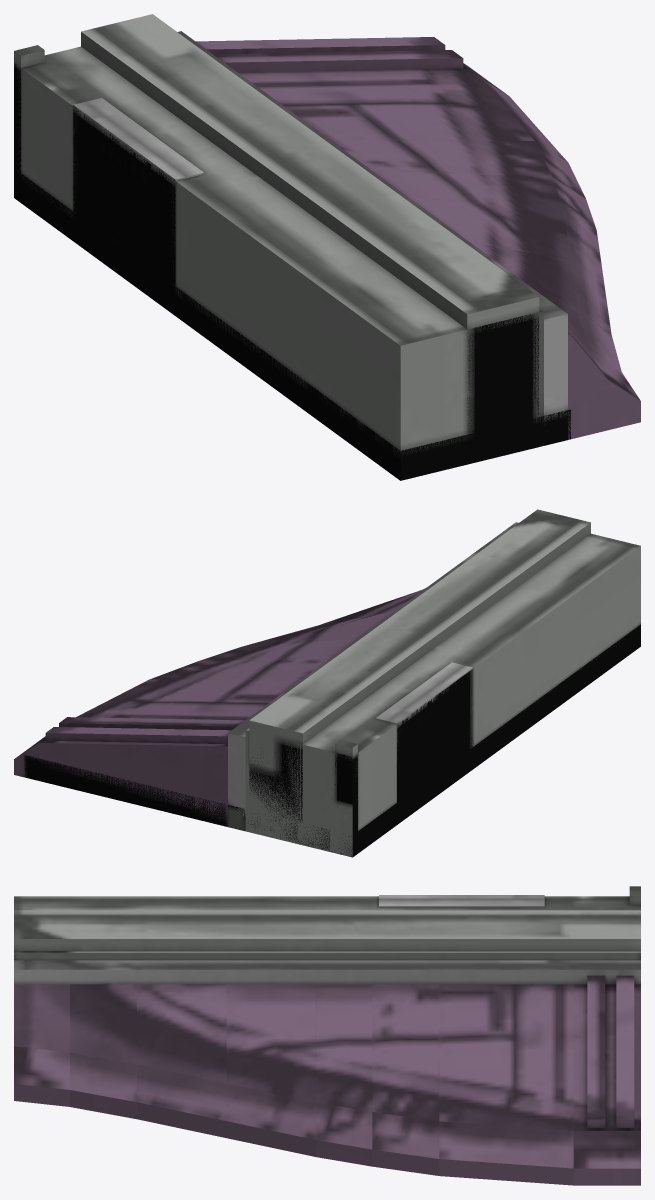
File: newshb-123.glb
The picture shows the model from 3 angles, top to bottom: view 1: azimuth 30°, elevation 25°; view 2: azimuth 150°, elevation 25°; view 3: azimuth 270°, elevation 25°; orthographic projection. The views are drawn at different scales.
Visible parts, largest first — view 1: newshb-123; view 2: newshb-123; view 3: newshb-123.
Boxes of the visible parts, bbox=[...] form: newshb-123: bbox=[14, 14, 640, 480]; newshb-123: bbox=[14, 509, 640, 857]; newshb-123: bbox=[14, 886, 640, 1185].
Bounding box in the file's own units: 1.58 × 0.5 × 2.33.
Materials: 6 (6 with a texture image).
